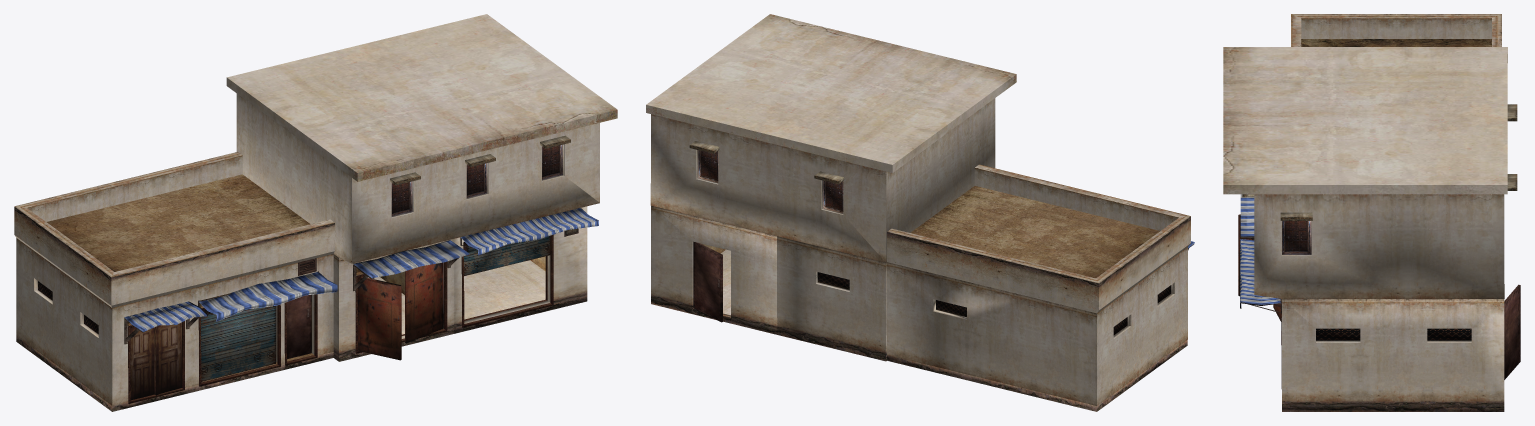
File: BuildingD_Seperated.fbx
The picture shows the model from 3 angles, left to right: view 1: azimuth 30°, elevation 25°; view 2: azimuth 150°, elevation 25°; view 3: azimuth 270°, elevation 25°; orthographic projection. The views are drawn at different scales.
Visible parts, largest first — view 1: BuildingD_Roof, BuildingD_Wall2, BuildingD_WallBalcony, BuildingD_Wall1Room1, BuildingD_FloorBalcony, BuildingD_Door4, BuildingD_Door1, BuildingD_Door2, BuildingD_Door5, BuildingD_Wall1Room3, BuildingD_Floor1Room3, BuildingD_Wall1Room2 (+6 smaller); view 2: BuildingD_Roof, BuildingD_Wall2, BuildingD_Wall1Room1, BuildingD_WallBalcony, BuildingD_FloorBalcony, BuildingD_Wall1Room2, BuildingD_Wall1Room3, BuildingD_Door6, BuildingD_Floor1Room1, BuildingD_Window12, BuildingD_Window11, BuildingD_Floor1Room3; view 3: BuildingD_Roof, BuildingD_Wall2, BuildingD_Wall1Room3, BuildingD_WallBalcony, BuildingD_FloorBalcony, BuildingD_Door5, BuildingD_Door6, BuildingD_Window10, BuildingD_Door4, BuildingD_Window2, BuildingD_Window1.
Part boxes in pixels (<box>): BuildingD_Roof: <box>226,14,617,181</box>; BuildingD_Wall2: <box>236,93,599,263</box>; BuildingD_WallBalcony: <box>14,152,334,307</box>; BuildingD_Wall1Room1: <box>16,238,333,405</box>; BuildingD_FloorBalcony: <box>47,174,310,271</box>; BuildingD_Door4: <box>353,240,469,360</box>; BuildingD_Door1: <box>124,301,207,403</box>; BuildingD_Door2: <box>198,293,280,386</box>; BuildingD_Door5: <box>460,208,598,327</box>; BuildingD_Wall1Room3: <box>454,206,587,333</box>; BuildingD_Floor1Room3: <box>464,260,545,319</box>; BuildingD_Wall1Room2: <box>333,239,454,361</box>; BuildingD_Roof: <box>646,14,1016,172</box>; BuildingD_Wall2: <box>650,98,995,262</box>; BuildingD_Wall1Room1: <box>887,247,1187,405</box>; BuildingD_WallBalcony: <box>887,164,1190,313</box>; BuildingD_FloorBalcony: <box>910,186,1159,278</box>; BuildingD_Wall1Room2: <box>777,236,886,361</box>; BuildingD_Wall1Room3: <box>651,205,777,334</box>; BuildingD_Door6: <box>692,241,730,322</box>; BuildingD_Floor1Room1: <box>887,340,1187,411</box>; BuildingD_Window12: <box>814,171,844,213</box>; BuildingD_Window11: <box>689,141,719,182</box>; BuildingD_Floor1Room3: <box>721,249,730,315</box>; BuildingD_Roof: <box>1223,47,1507,194</box>; BuildingD_Wall2: <box>1254,194,1504,298</box>; BuildingD_Wall1Room3: <box>1282,299,1504,411</box>; BuildingD_WallBalcony: <box>1291,14,1501,46</box>; BuildingD_FloorBalcony: <box>1301,39,1491,46</box>; BuildingD_Door5: <box>1240,239,1281,388</box>; BuildingD_Door6: <box>1504,284,1520,379</box>; BuildingD_Window10: <box>1280,212,1312,254</box>; BuildingD_Door4: <box>1238,194,1281,321</box>; BuildingD_Window2: <box>1427,328,1471,342</box>; BuildingD_Window1: <box>1316,328,1360,342</box>.
Bounding box in the file's own units: 1655 × 692 × 815.
